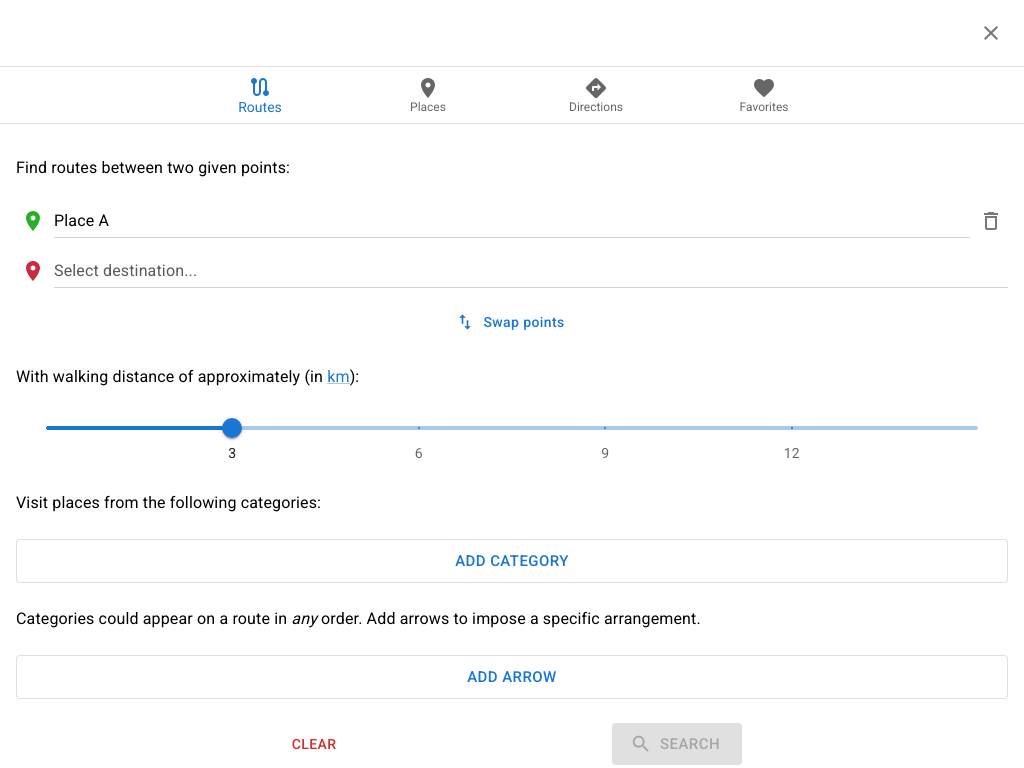
Scenario: <SearchRoutesPanel /> › source box › should remove added location upon clicking on the Remove
Click the button named "Remove point": (991, 221) [974, 204, 1008, 238]
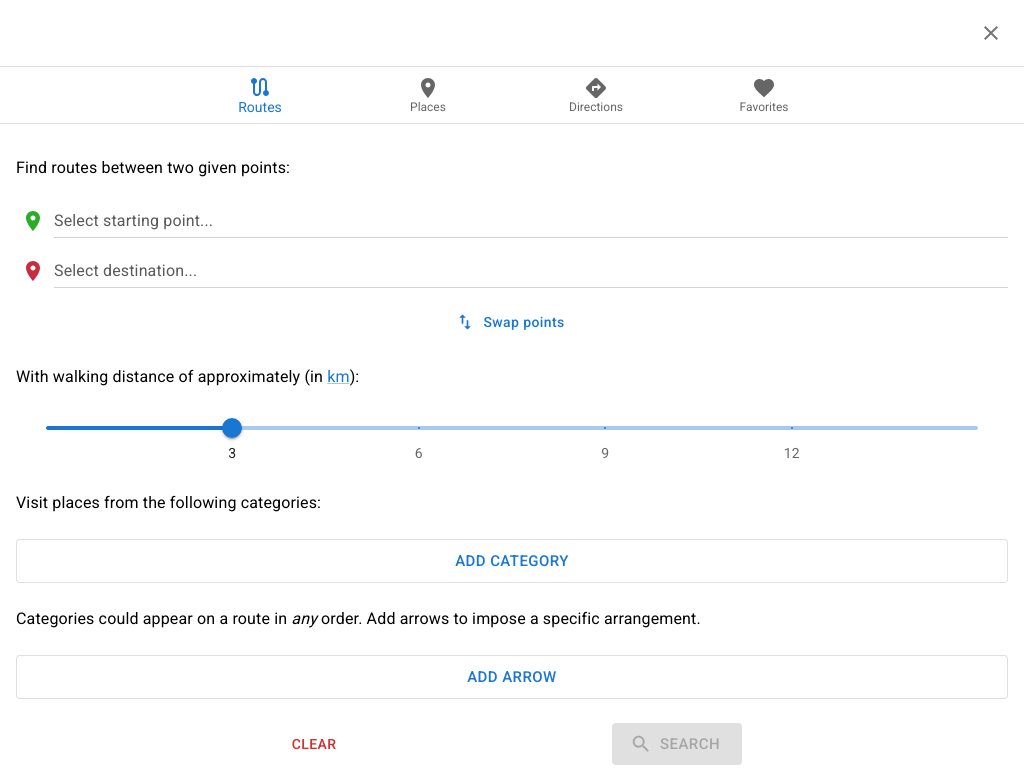
Check: the text "Select starting point..." is shown, box [54, 208, 213, 232]
